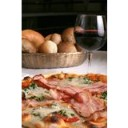pepperonipizza: (23, 71, 107, 128)
